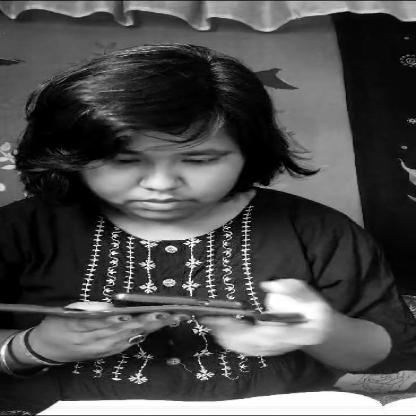Normal: (81, 85, 252, 225)
